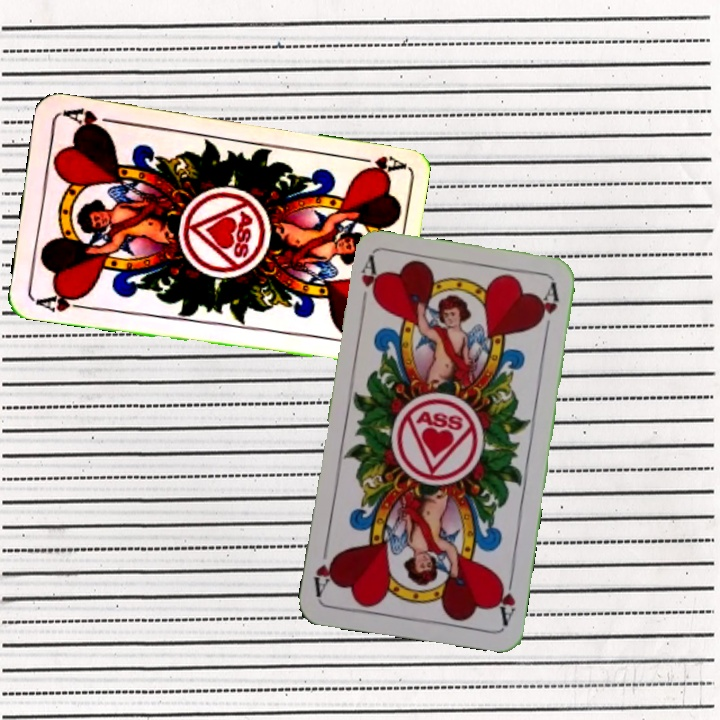HA: (31, 287, 90, 315), (492, 568, 518, 627), (345, 151, 405, 176), (356, 254, 380, 313)
